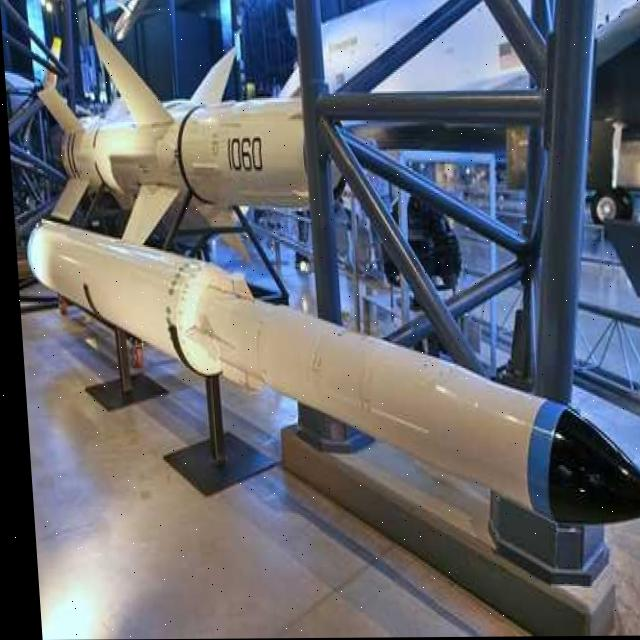missile: (23, 201, 640, 541), (10, 11, 366, 245)
